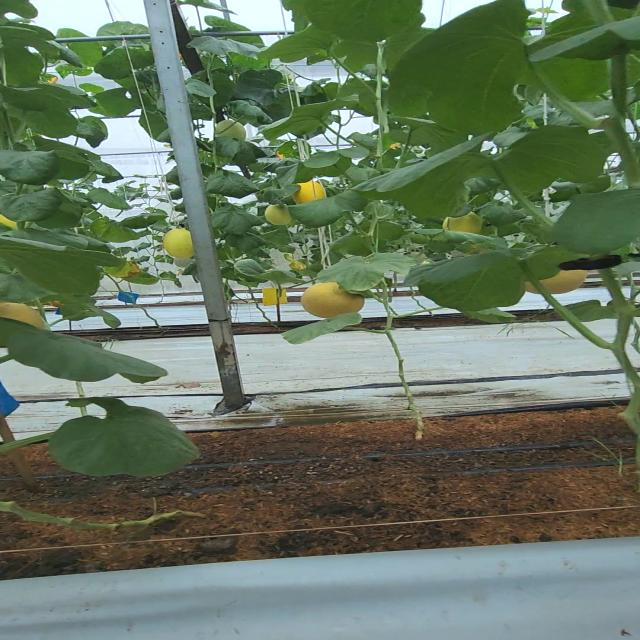Rear-melon: (300, 282, 364, 314), (166, 228, 198, 259)
